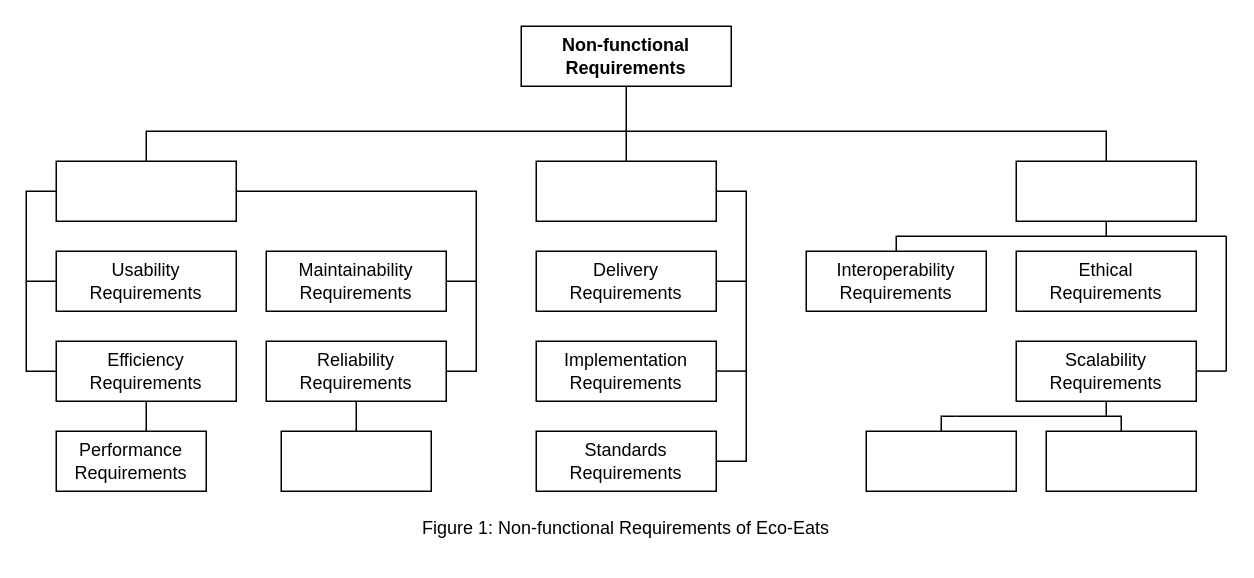
Image size: 1254x578. Some labels were removed from this diagram. Each missing label, with the centre of its shape:
"External Requirements" goes at pixel 1105 190.
"Privacy Requirements" goes at pixel 940 460.
"Process Requirements" goes at pixel 625 190.
"Product Requirements" goes at pixel 145 190.
"Safety Requirements" goes at pixel 1120 460.
"Security Requirements" goes at pixel 355 460.
